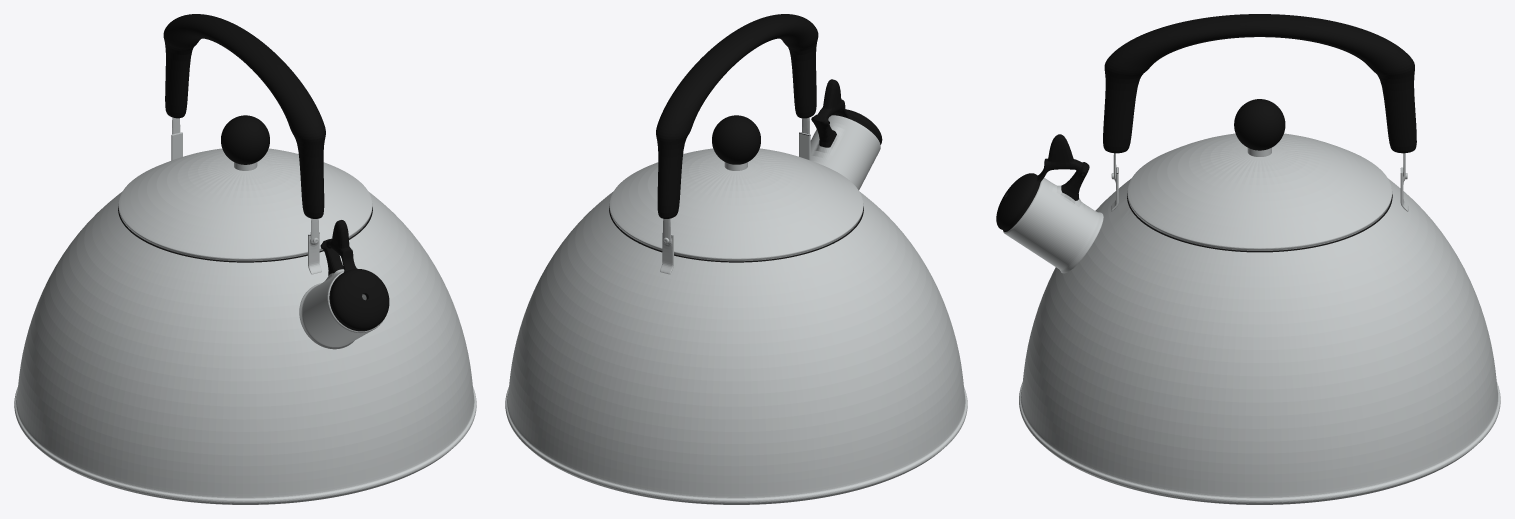
Rendered from obj_tea_kettle_stainless_steel_a_1c544d.glb.
3 renders of one model, left to right at view 1: azimuth 30°, elevation 25°; view 2: azimuth 150°, elevation 25°; view 3: azimuth 270°, elevation 25°, orthographic. The views are drawn at different scales.
Parts seen in each view (by area): view 1: obj_tea_kettle_stainless_steel_a_1c544d; view 2: obj_tea_kettle_stainless_steel_a_1c544d; view 3: obj_tea_kettle_stainless_steel_a_1c544d.
Boxes of the visible parts, x1,y1,x2,y2 form: obj_tea_kettle_stainless_steel_a_1c544d: (14, 14, 476, 504); obj_tea_kettle_stainless_steel_a_1c544d: (505, 14, 967, 504); obj_tea_kettle_stainless_steel_a_1c544d: (996, 14, 1500, 504).
Size of the model in its own units: 0.2808 by 0.25 by 0.2939.
1 material, 1 textured.
